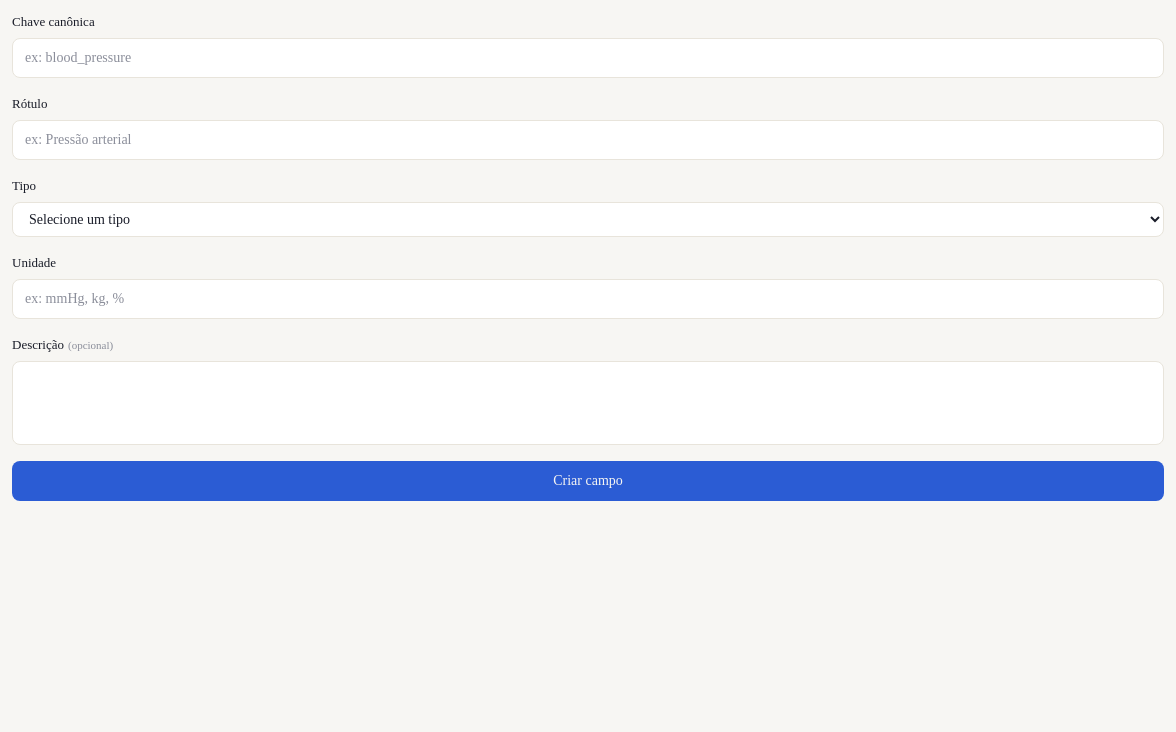
Test: CanonicalFieldForm (integration) — create mode › shows validation error for invalid canonicalKey format
This screenshot has width=1176, height=732.
Type "Invalid Key!" into the field with test id "canonical-field-form-canonical-key" at (588, 58), box [12,38,1164,78]
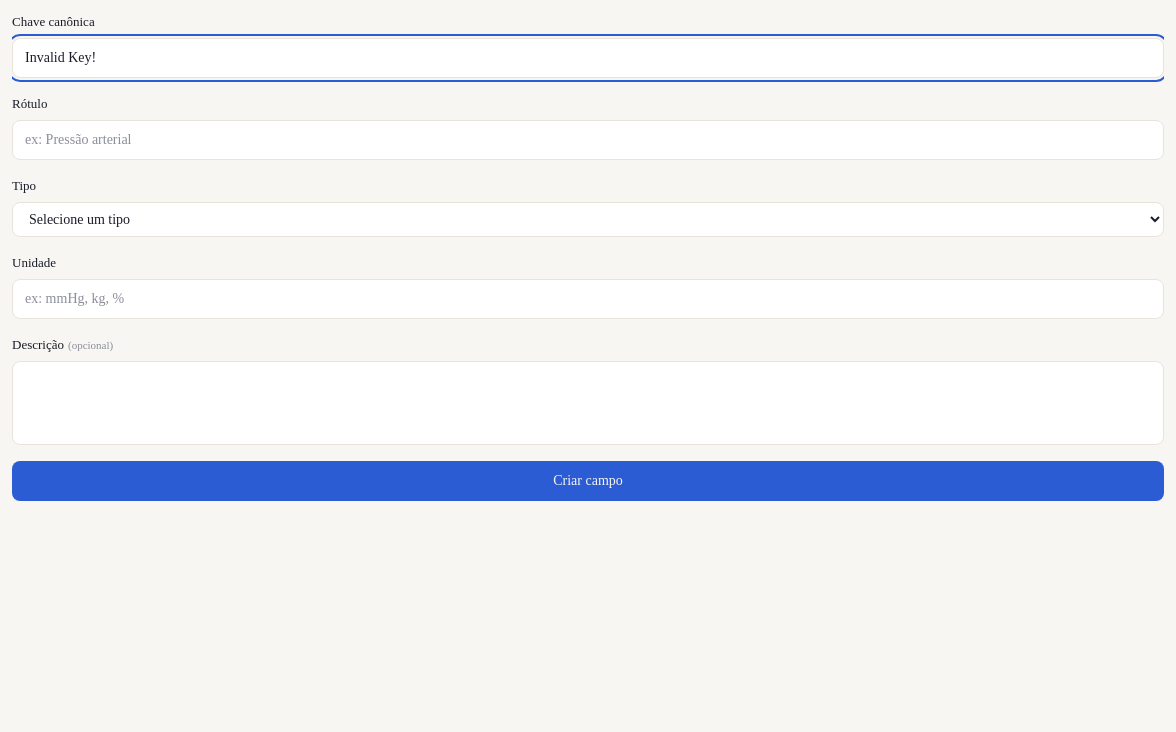
Type "Label" into the field with test id "canonical-field-form-label" at (588, 140), box [12,120,1164,160]
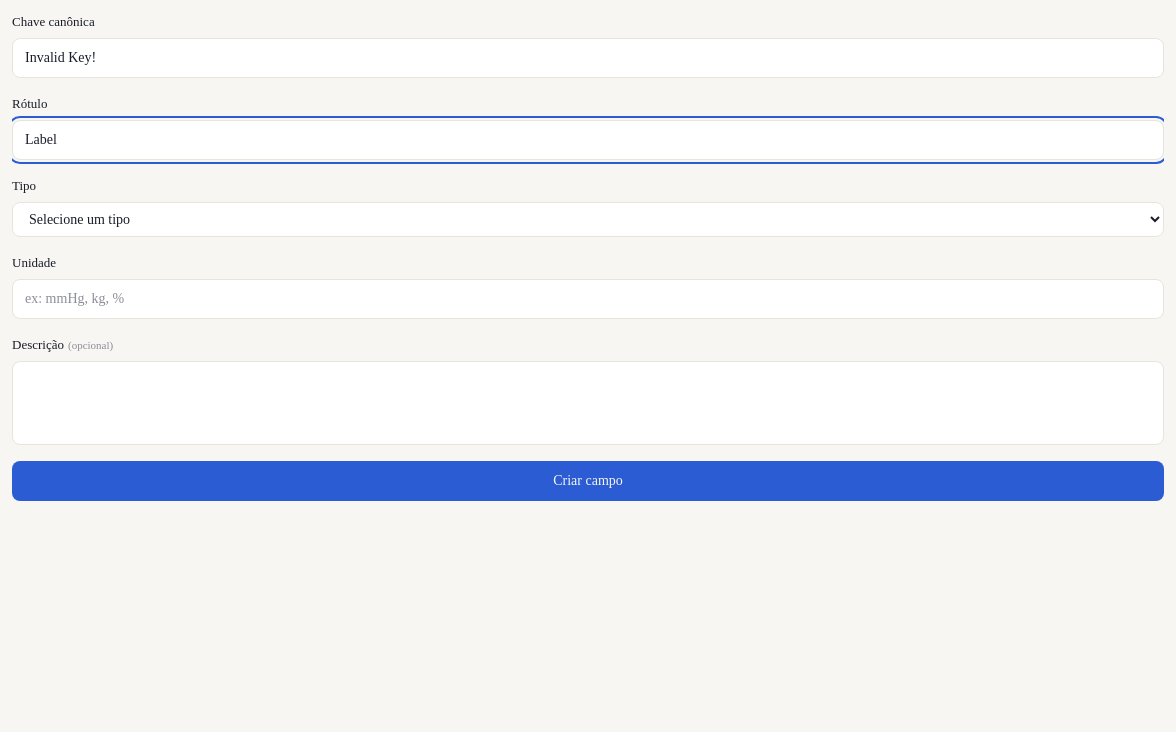
Select "Texto" in the dropdown with test id "canonical-field-form-type" at (588, 220), box [12,202,1164,237]
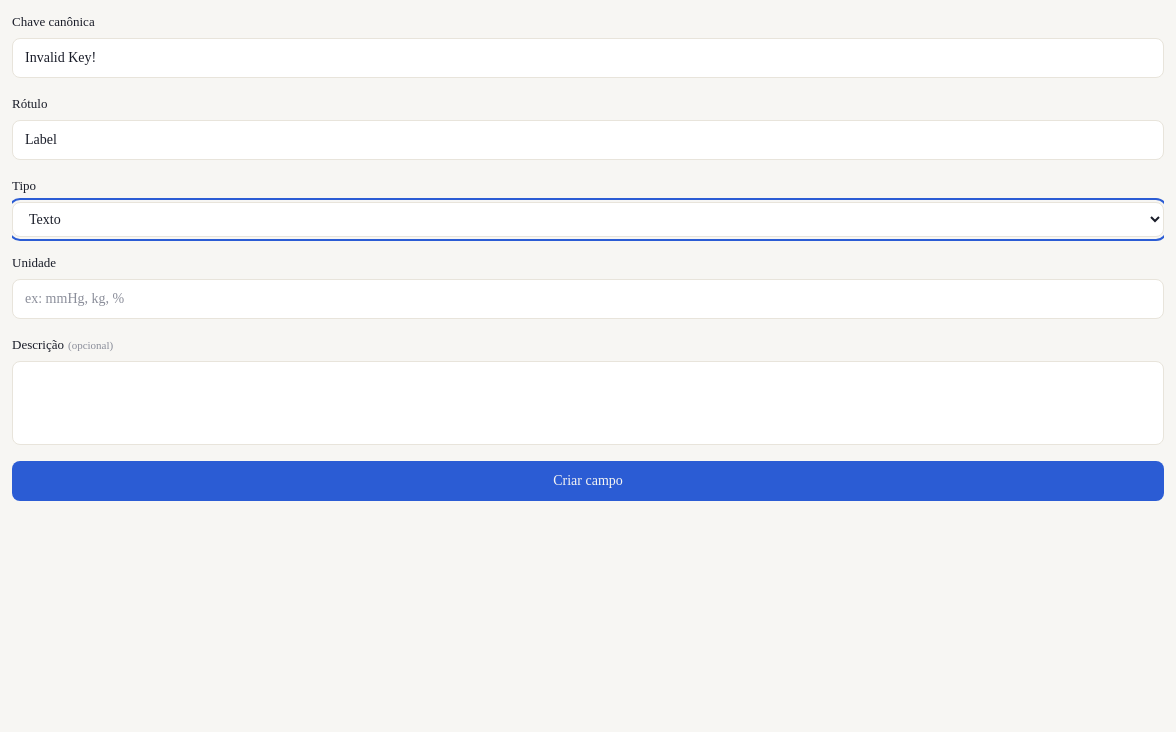
Click the button with test id "canonical-field-form-submit" at (588, 481), box [12,461,1164,501]
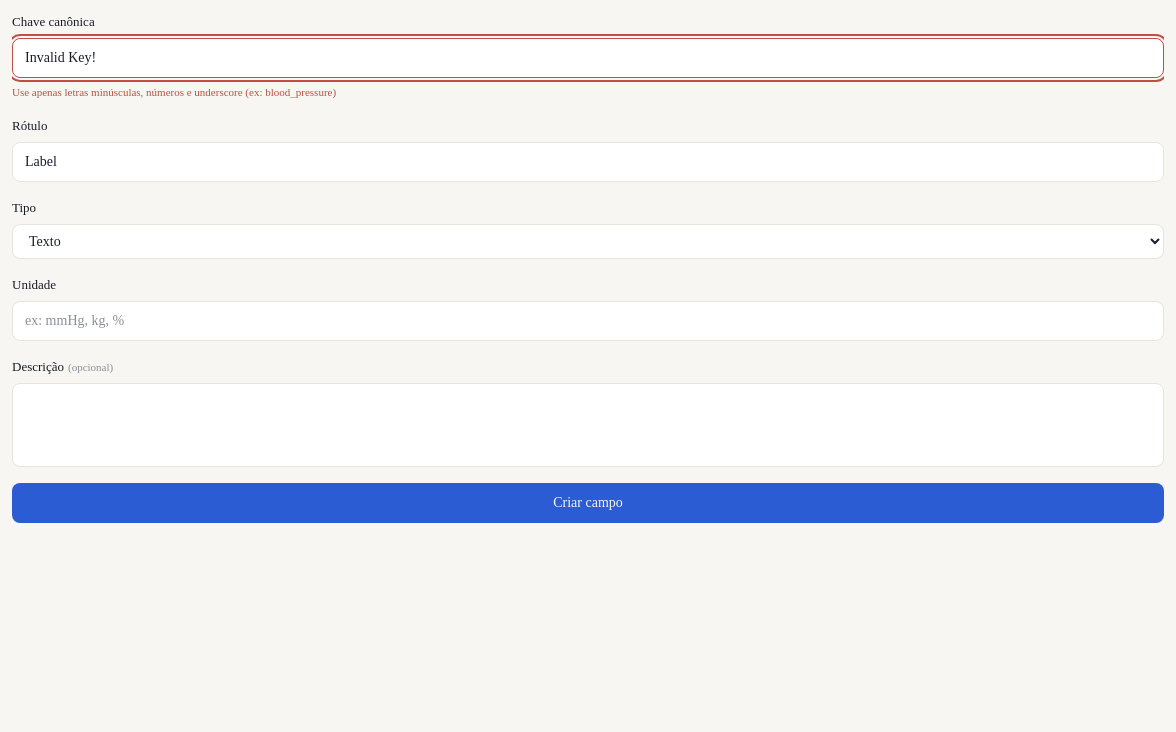
Result: the text "Use apenas letras minúsculas, números e underscore (ex: blood_pressure)" is shown at [12,86,336,98]
